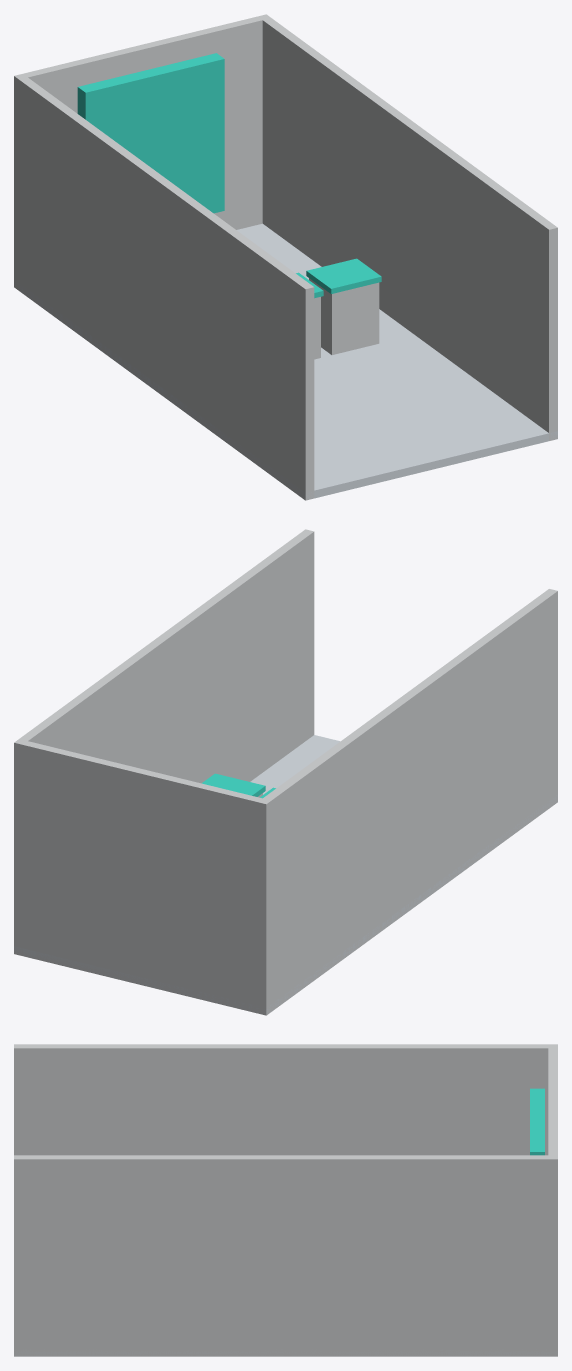
3 views of the same model, one above another, from view 1: azimuth 30°, elevation 25°; view 2: azimuth 150°, elevation 25°; view 3: azimuth 270°, elevation 25° (orthographic). The views are drawn at different scales.
Visible parts, largest first — view 1: Exhibition Booth Concept; view 2: Exhibition Booth Concept; view 3: Exhibition Booth Concept.
Part boxes in pixels (x1,y1,x2,y2): Exhibition Booth Concept: (14, 14, 557, 500); Exhibition Booth Concept: (14, 529, 557, 1015); Exhibition Booth Concept: (14, 1044, 557, 1356).
Size of the model in its own units: 4 by 3.2 by 8.
